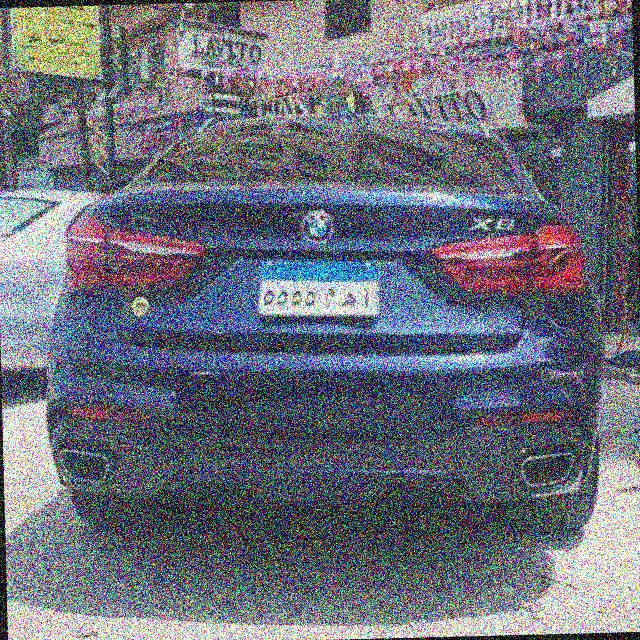License Plate: (254, 252, 383, 323)
